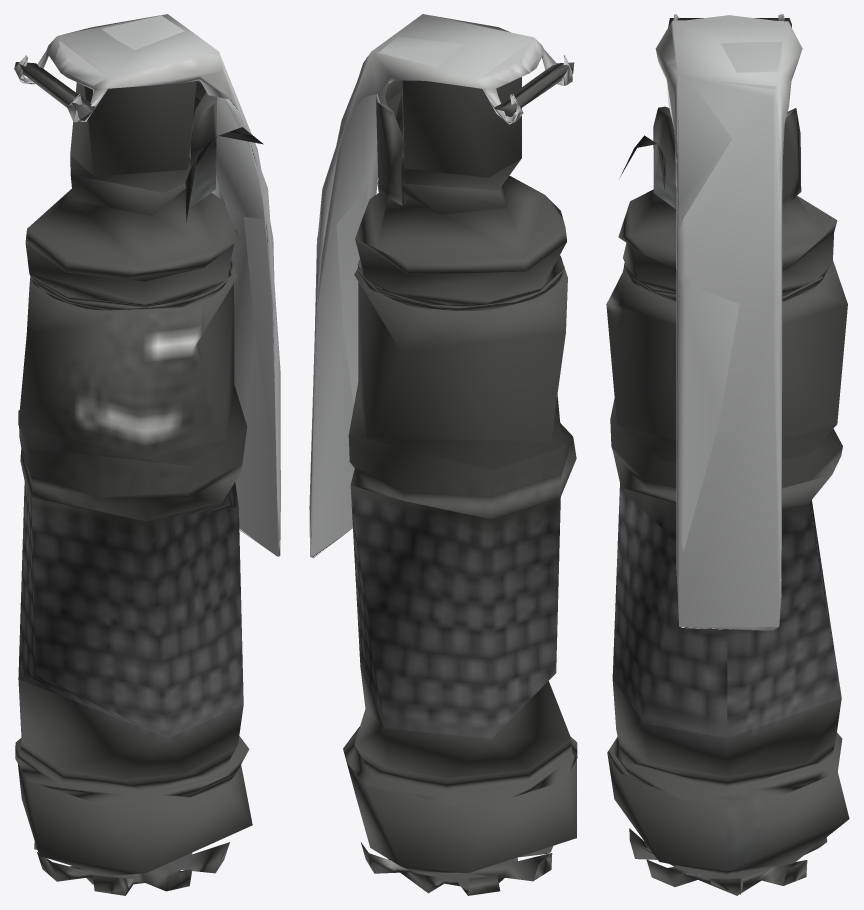
File: flashbang.glb
3 views of the same model, side by side, from view 1: azimuth 30°, elevation 25°; view 2: azimuth 150°, elevation 25°; view 3: azimuth 270°, elevation 25° (orthographic).
Parts seen in each view (by area): view 1: flashbang; view 2: flashbang; view 3: flashbang.
Boxes of the visible parts, box(x1,y1,x2,y2) form: flashbang: box(14, 14, 280, 895); flashbang: box(309, 14, 577, 895); flashbang: box(606, 14, 849, 895).
Size of the model in its own units: 0.0575 by 0.1993 by 0.0526.
Materials: 1 (1 with a texture image).
